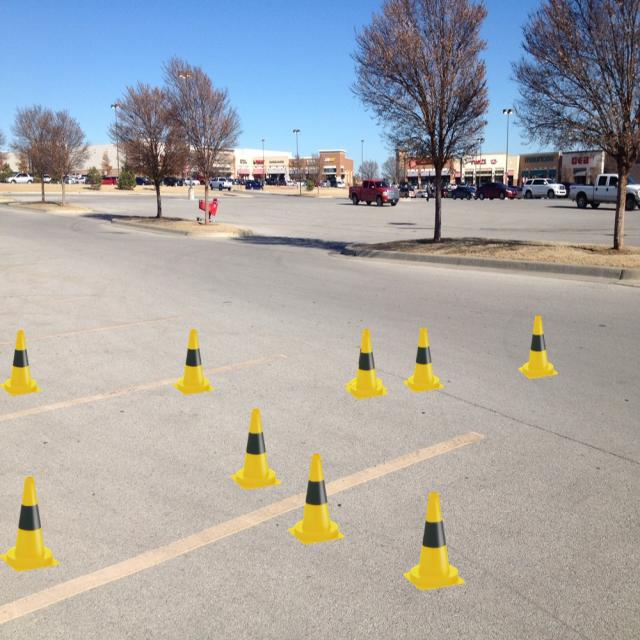yellow_cone: (403, 492, 465, 590), (0, 477, 60, 572), (288, 454, 345, 544), (230, 409, 282, 490), (0, 330, 42, 396), (346, 333, 388, 399), (346, 329, 387, 395), (173, 329, 214, 395), (403, 328, 444, 392), (518, 316, 558, 379)
